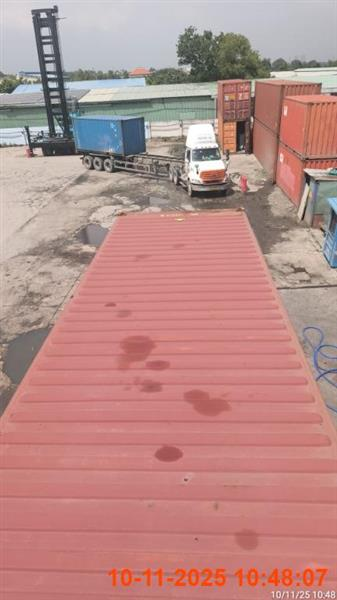rust: (1, 207, 335, 598), (1, 206, 334, 598), (168, 123, 230, 197), (70, 114, 146, 172)
